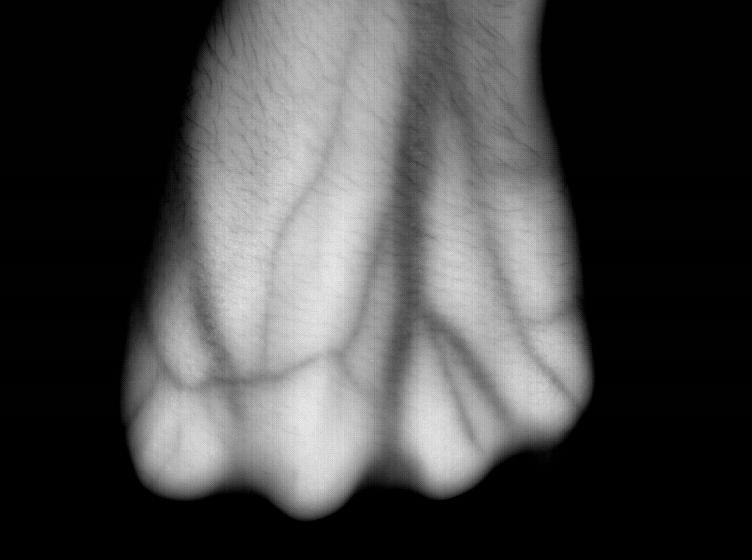Vein: (379, 6, 498, 402)
